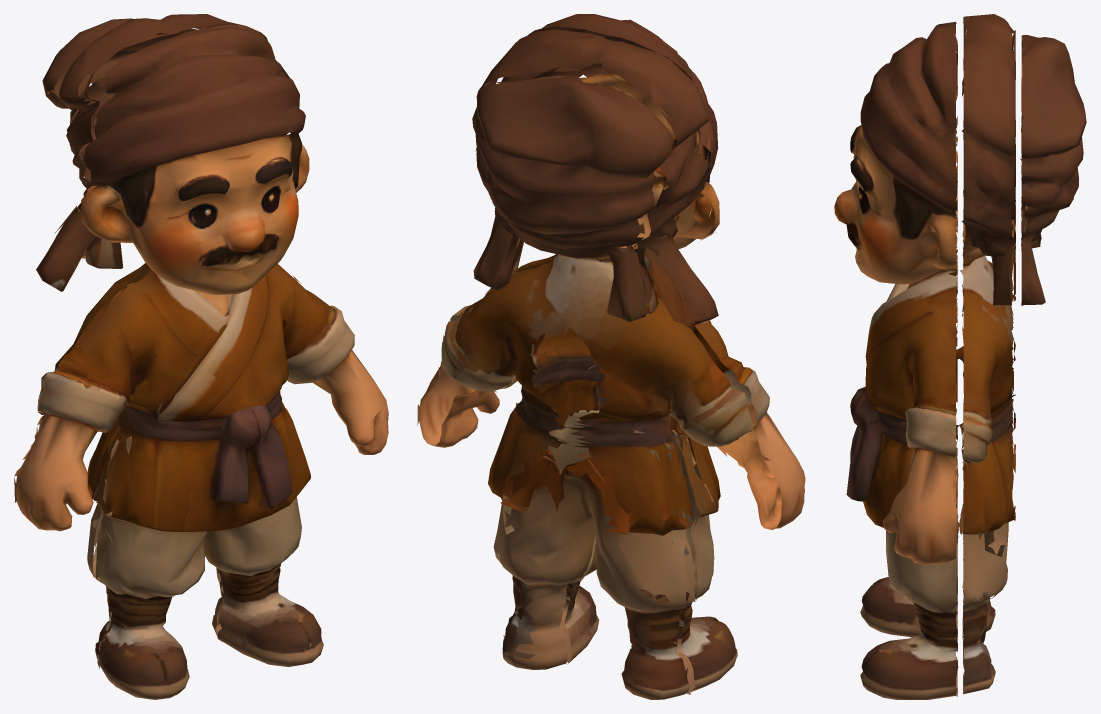
The model's file is grandson.fbx.
3 renders of one model, left to right at view 1: azimuth 30°, elevation 25°; view 2: azimuth 150°, elevation 25°; view 3: azimuth 270°, elevation 25°, orthographic. The views are drawn at different scales.
Parts seen in each view (by area): view 1: 1_output_1794125622937361_nCWLNDgKK.005; view 2: 1_output_1794125622937361_nCWLNDgKK.005; view 3: 1_output_1794125622937361_nCWLNDgKK.005.
Part boxes in pixels (left/top/right/bottom): 1_output_1794125622937361_nCWLNDgKK.005: left=14, top=14, right=388, bottom=699; 1_output_1794125622937361_nCWLNDgKK.005: left=417, top=14, right=805, bottom=699; 1_output_1794125622937361_nCWLNDgKK.005: left=834, top=14, right=1086, bottom=699.
Bounding box in the file's own units: 0.995 × 1.65 × 0.6115.
Materials: 1 (1 with a texture image).
